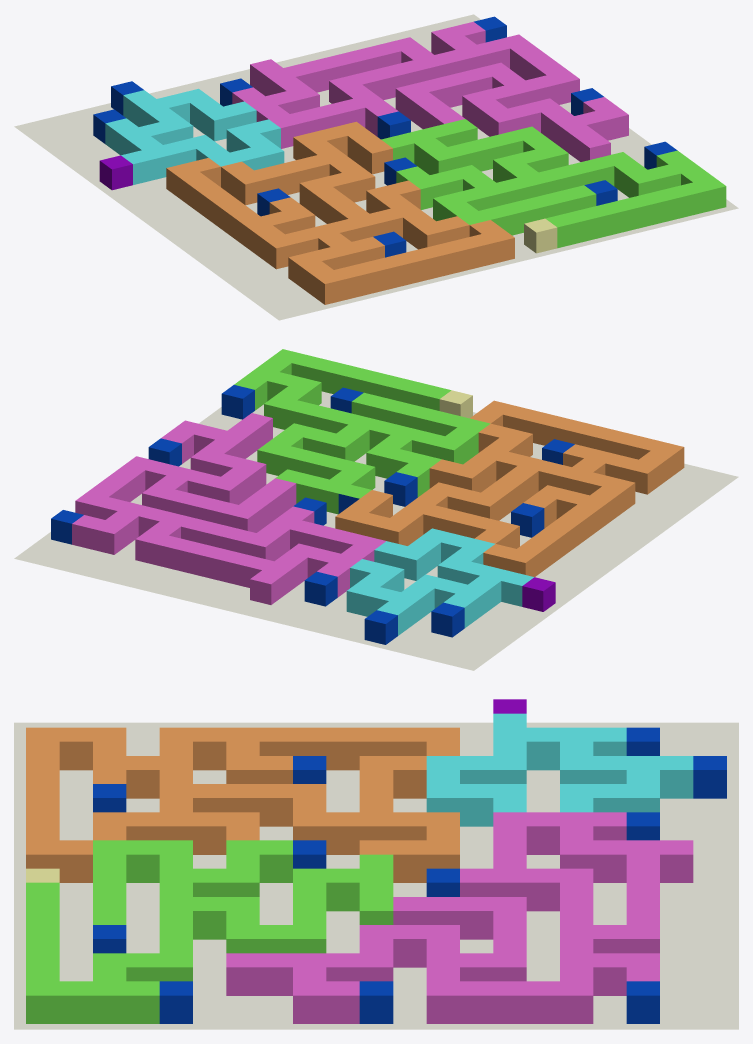
The model's file is Maze.fbx.
The picture shows the model from 3 angles, top to bottom: view 1: azimuth 30°, elevation 25°; view 2: azimuth 150°, elevation 25°; view 3: azimuth 270°, elevation 25°; orthographic projection. The views are drawn at different scales.
Visible parts, largest first — view 1: pPlane2, pPlane3; view 2: pPlane2, pPlane3; view 3: pPlane2, pPlane3.
Part boxes in pixels (x1=…): pPlane2: x1=93, y1=16, x2=726, y2=304; pPlane3: x1=14, y1=14, x2=738, y2=320; pPlane2: x1=51, y1=349, x2=684, y2=644; pPlane3: x1=14, y1=391, x2=738, y2=670; pPlane2: x1=26, y1=699, x2=726, y2=1023; pPlane3: x1=14, y1=722, x2=738, y2=1029.
Bounding box in the file's own units: 46.03 × 2 × 45.95.
